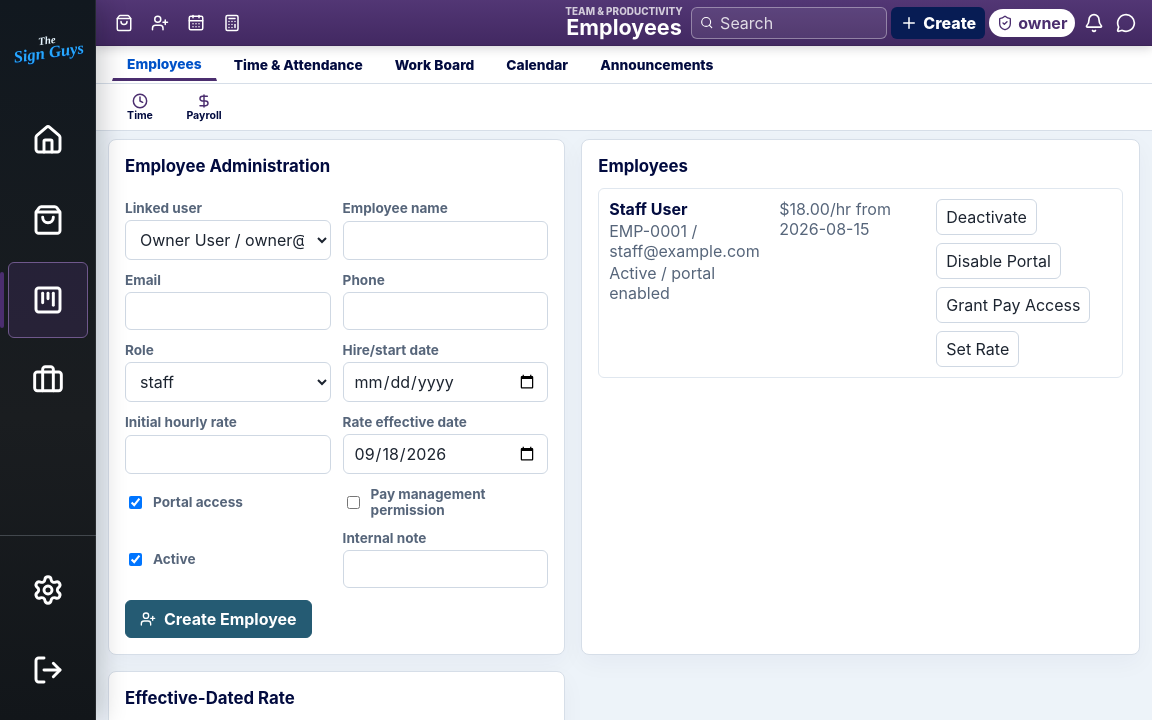
Scenario: Version 2 Stage 1-8 navigation boundary › refreshes session capabilities after creating a current-user Employee portal record
Expected: the heading "Employee Administration" is shown, 125,156 -> 330,176
Expected: the link "Employee Portal" is not shown
Click the button "Create Employee" at {"x": 218, "y": 619}, box 125,600 -> 312,638
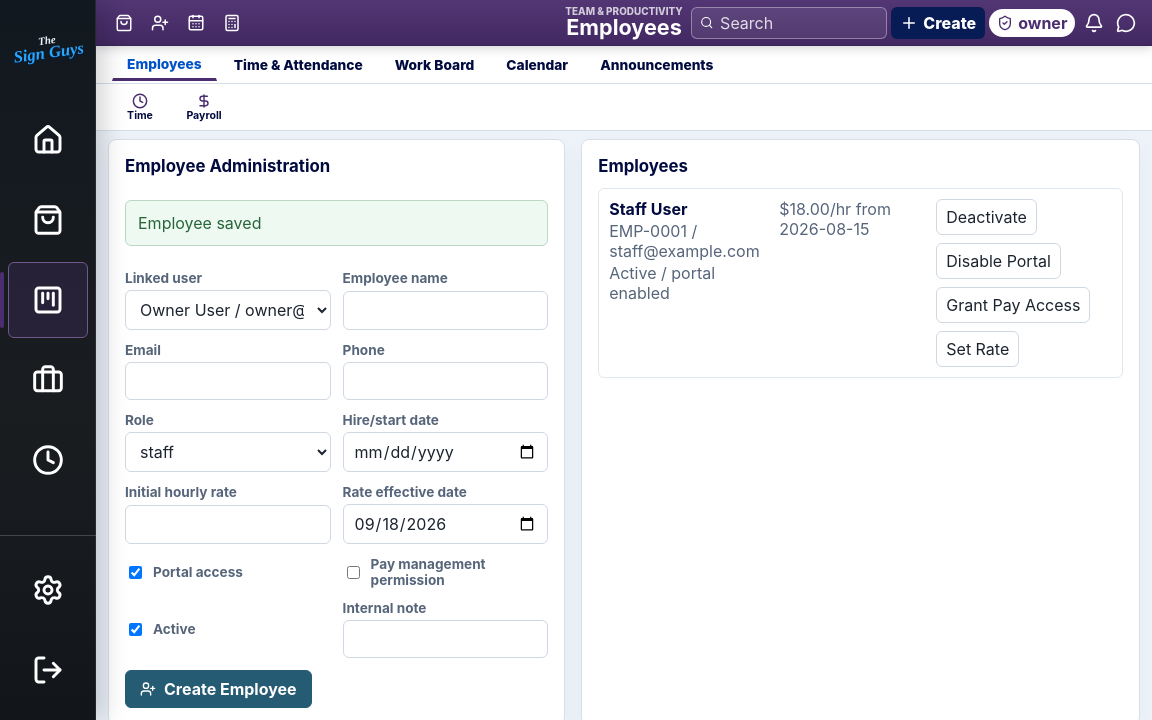
Result: the 5th link named "Employee Portal" is shown at 32,444 -> 135,476
